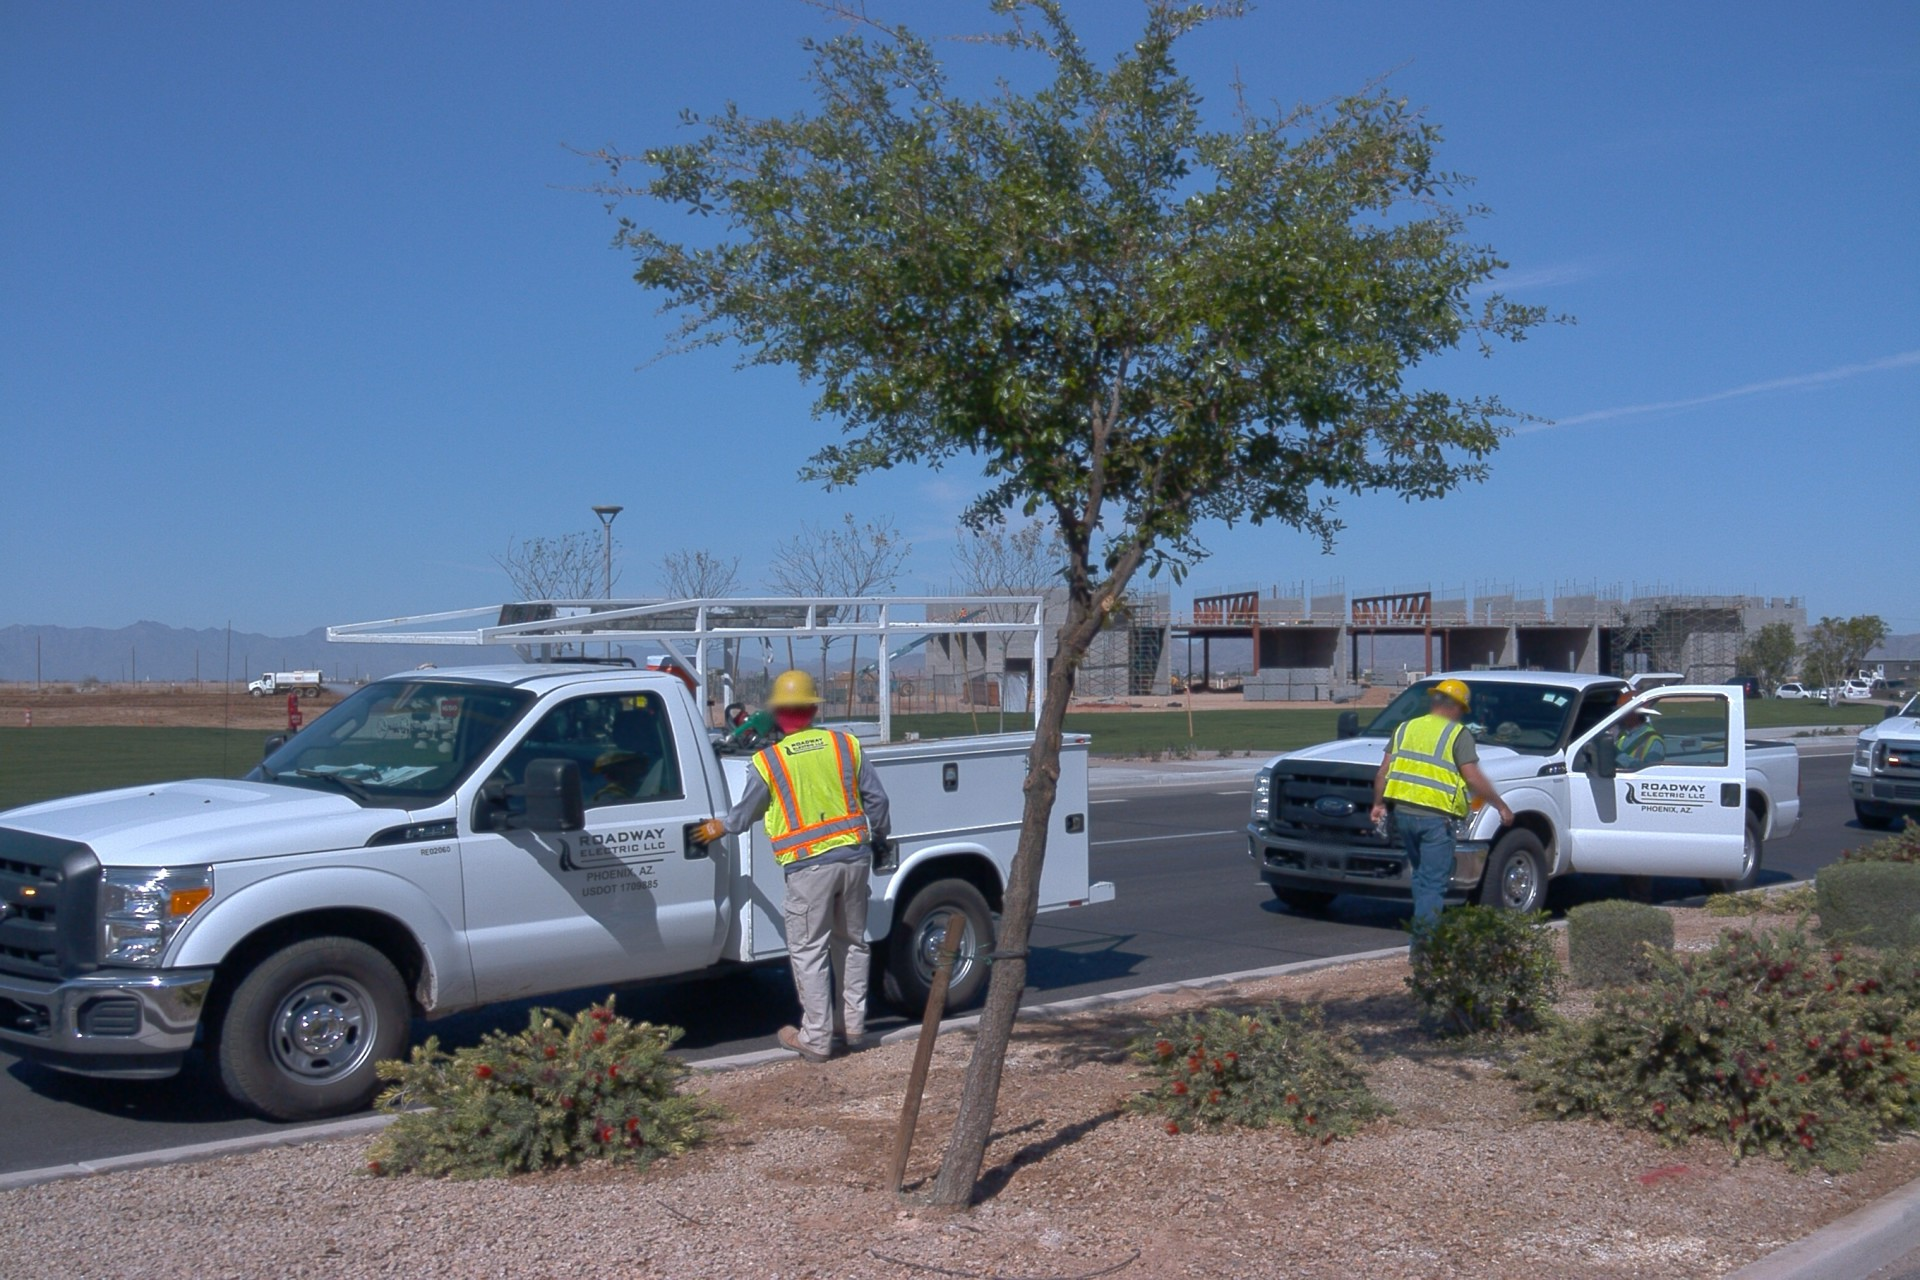TYPE_PEDESTRIAN: (691, 666, 896, 1061), (1363, 679, 1515, 969), (1598, 687, 1670, 905)
TYPE_VEHICLE: (0, 586, 1120, 1131), (1246, 667, 1807, 932), (849, 606, 985, 702), (1846, 688, 1920, 826), (242, 669, 322, 703), (1870, 677, 1920, 708), (1818, 681, 1872, 703), (1722, 681, 1773, 703), (1778, 686, 1838, 704), (1833, 673, 1887, 691), (1169, 673, 1204, 692)
